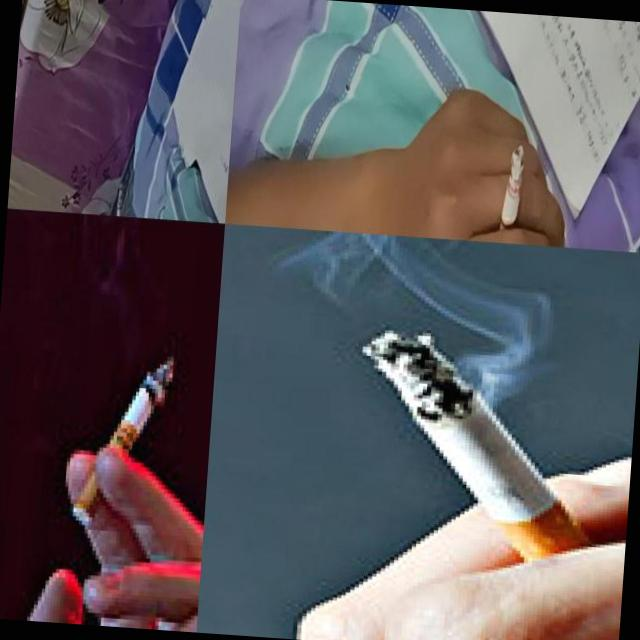smoke: (343, 324, 640, 634), (75, 342, 184, 522), (494, 140, 527, 244), (115, 181, 124, 215)
